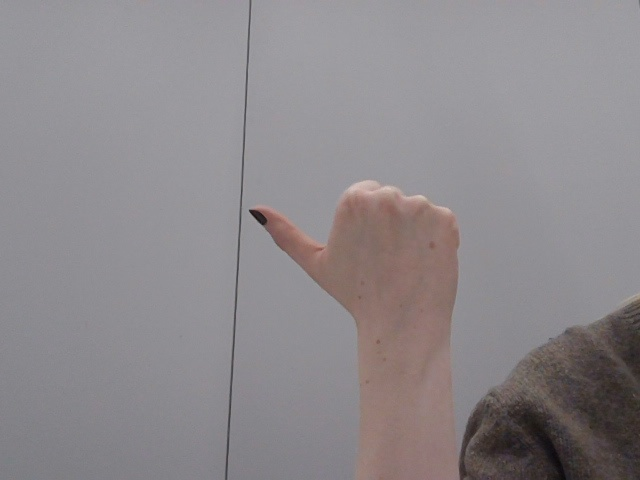right: (237, 160, 492, 357)
